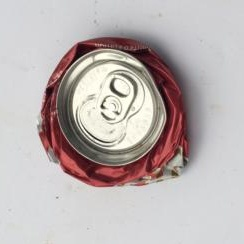Metal: (25, 34, 196, 192)
